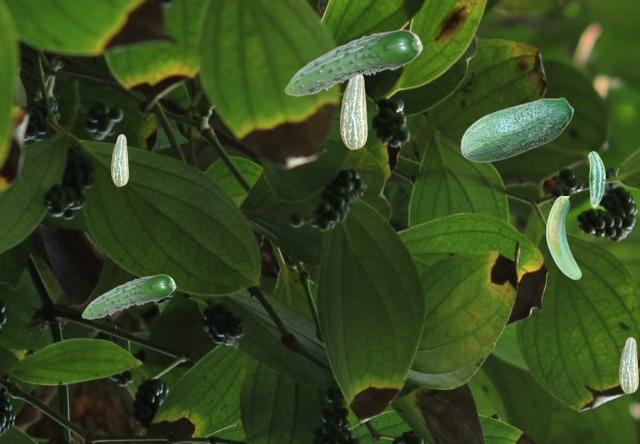cucumber: (284, 29, 422, 95), (460, 97, 573, 161), (81, 274, 175, 318), (546, 196, 580, 278), (340, 75, 366, 148), (619, 337, 637, 392), (588, 151, 604, 206), (111, 134, 127, 185)
